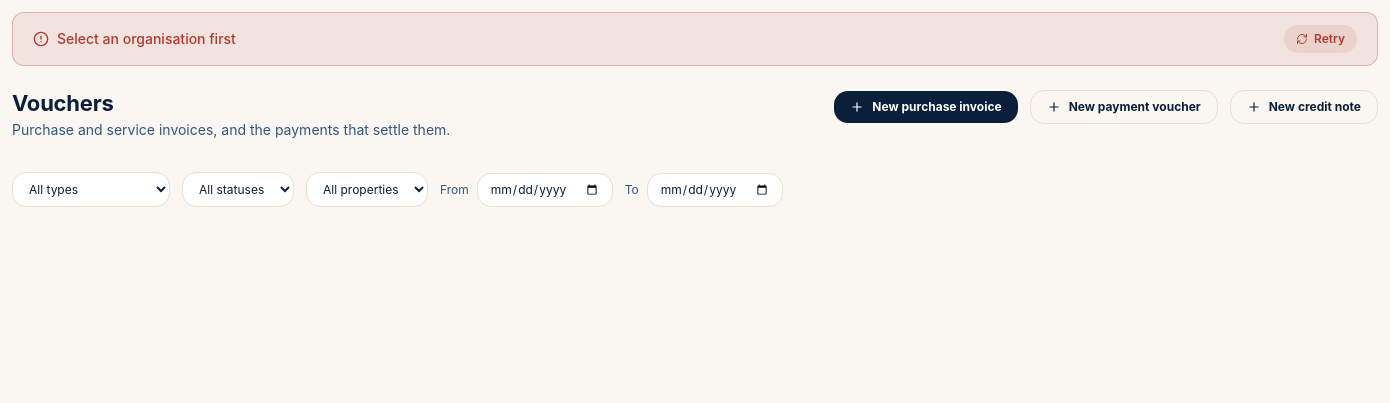
Test: voucher list › surfaces the tenant-less 400 in a retryable banner
Expected: the message shows "Select an organisation first", [57, 30, 236, 47]
Click the button "Retry" at (1320, 39), box [1284, 25, 1357, 53]
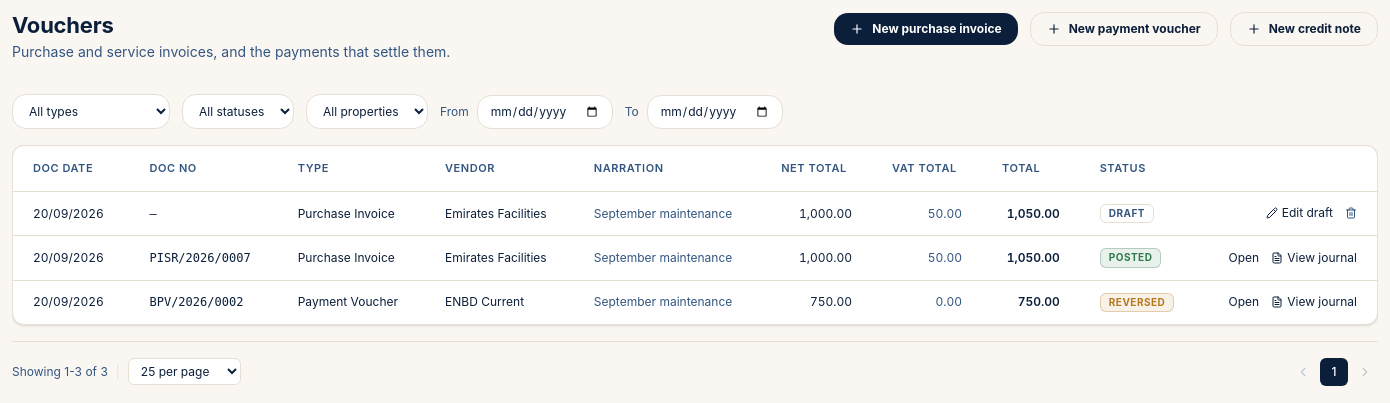
Now the row with test id "voucher-row-v-draft" is shown, box [13, 191, 1377, 236]
